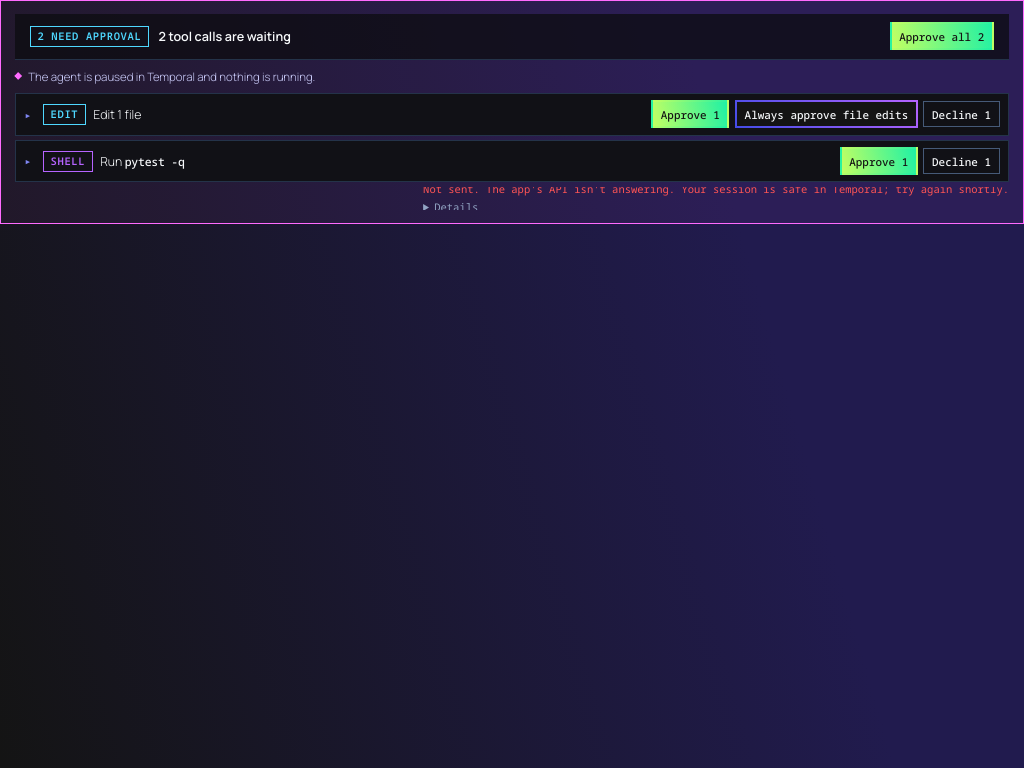
Scenario: review follow-ups › a failed answer reads in plain words, with the raw text behind Details
Click the button "▸ Edit Edit 1 file".
click(83, 114)  # box [24,100,141,128]
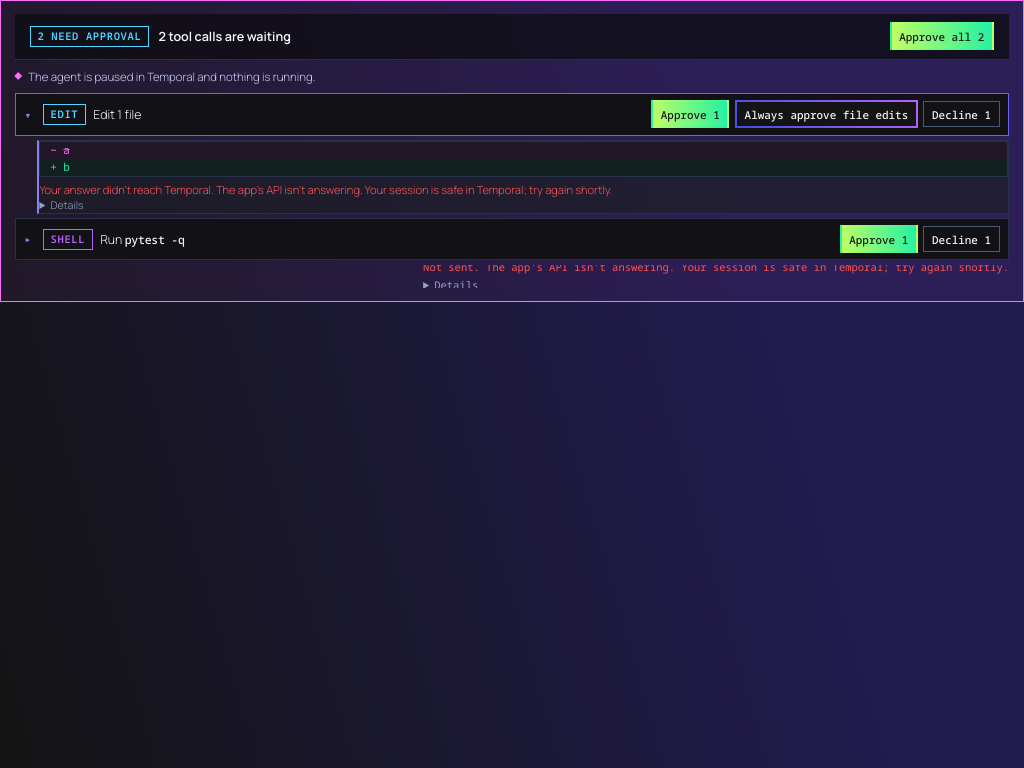
Check: the text "Not sent. The app's API isn't answering. Your session is safe in Temporal; try again shortly." is shown, box [423,265,1009,274]
Check: the 1st message shows "Your answer didn't reach Temporal. The app's API isn't answering.", box [39,182,612,197]
Check: the 1st heading "Details" is shown, box [50,198,83,212]
